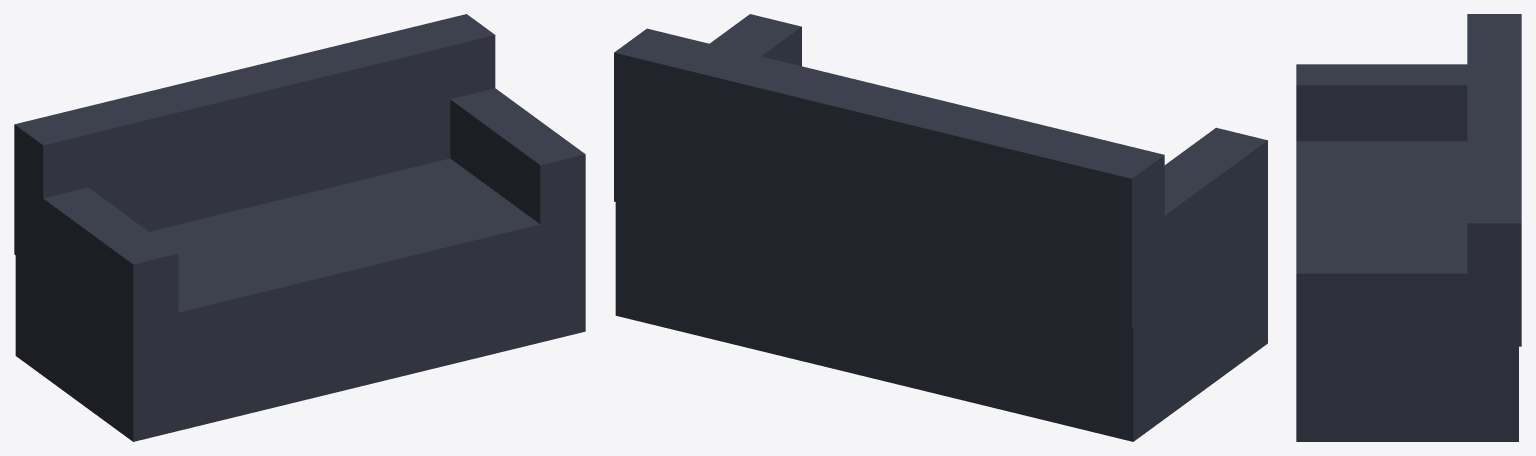
File: sofa.glb
3 renders of one model, left to right at view 1: azimuth 30°, elevation 25°; view 2: azimuth 150°, elevation 25°; view 3: azimuth 270°, elevation 25°, orthographic. The views are drawn at different scales.
Visible parts, largest first — view 1: sofa_seat, sofa_back, sofa_arm, sofa_arm.001; view 2: sofa_back, sofa_seat, sofa_arm, sofa_arm.001; view 3: sofa_seat, sofa_back, sofa_arm.001, sofa_arm.
Part boxes in pixels (<box>): sofa_seat: <box>15,158,585,441</box>; sofa_back: <box>14,14,495,274</box>; sofa_arm: <box>43,187,178,382</box>; sofa_arm.001: <box>450,88,585,224</box>; sofa_back: <box>614,28,1164,327</box>; sofa_seat: <box>615,202,1267,441</box>; sofa_arm: <box>1081,127,1267,373</box>; sofa_arm.001: <box>615,14,801,260</box>; sofa_seat: <box>1296,141,1518,441</box>; sofa_back: <box>1467,14,1521,346</box>; sofa_arm.001: <box>1296,252,1518,385</box>; sofa_arm: <box>1296,64,1467,141</box>.
Bounding box in the file's own units: 2 × 0.975 × 0.91.
